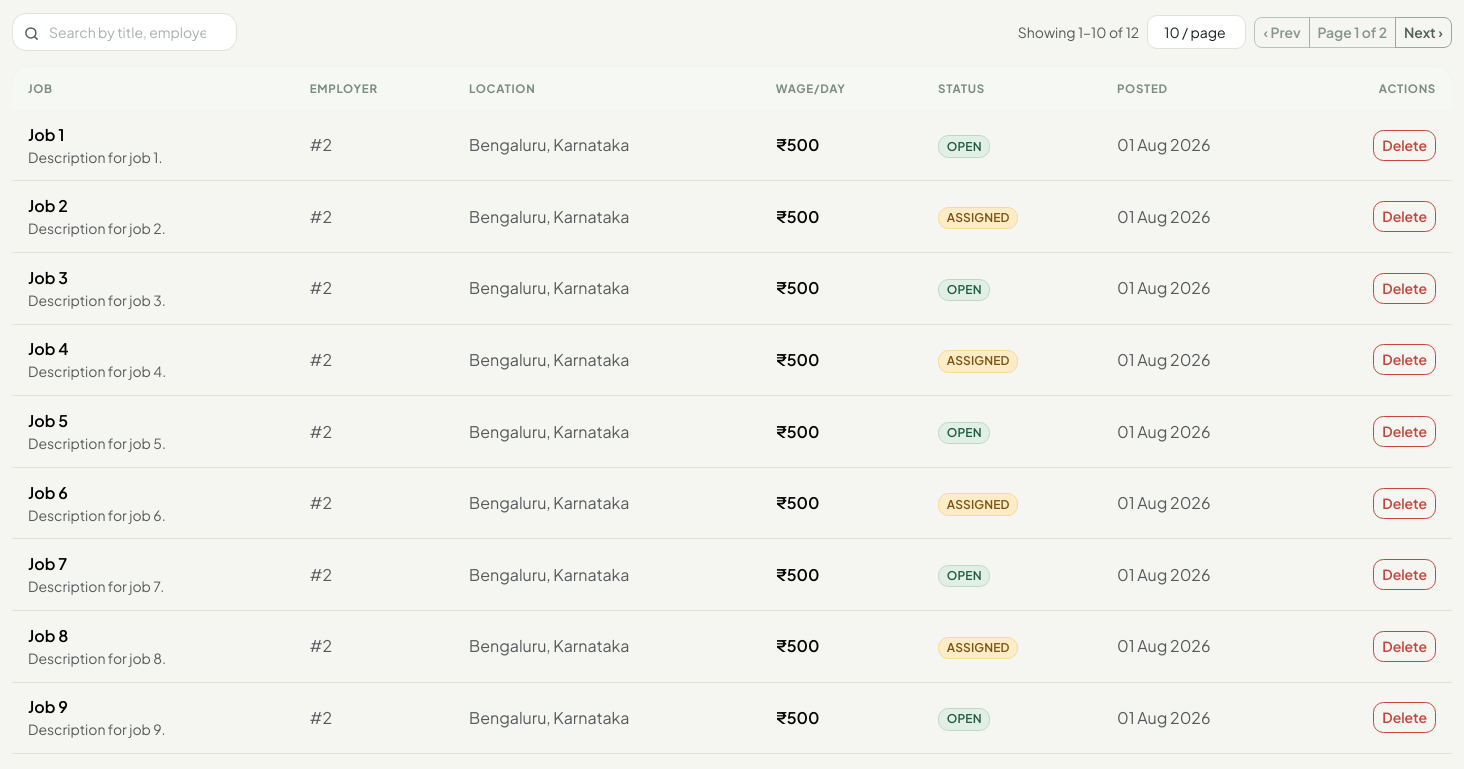
Test: JobManagement › paginates the table and lets the admin flip pages
This screenshot has width=1464, height=769.
Expected: the text "Showing 1–10 of 12" is shown, [1018,22,1139,42]
Expected: the text "Job 11" is not shown
Click the button with aria-label "next page": point(1424, 32) [1395,16,1452,48]
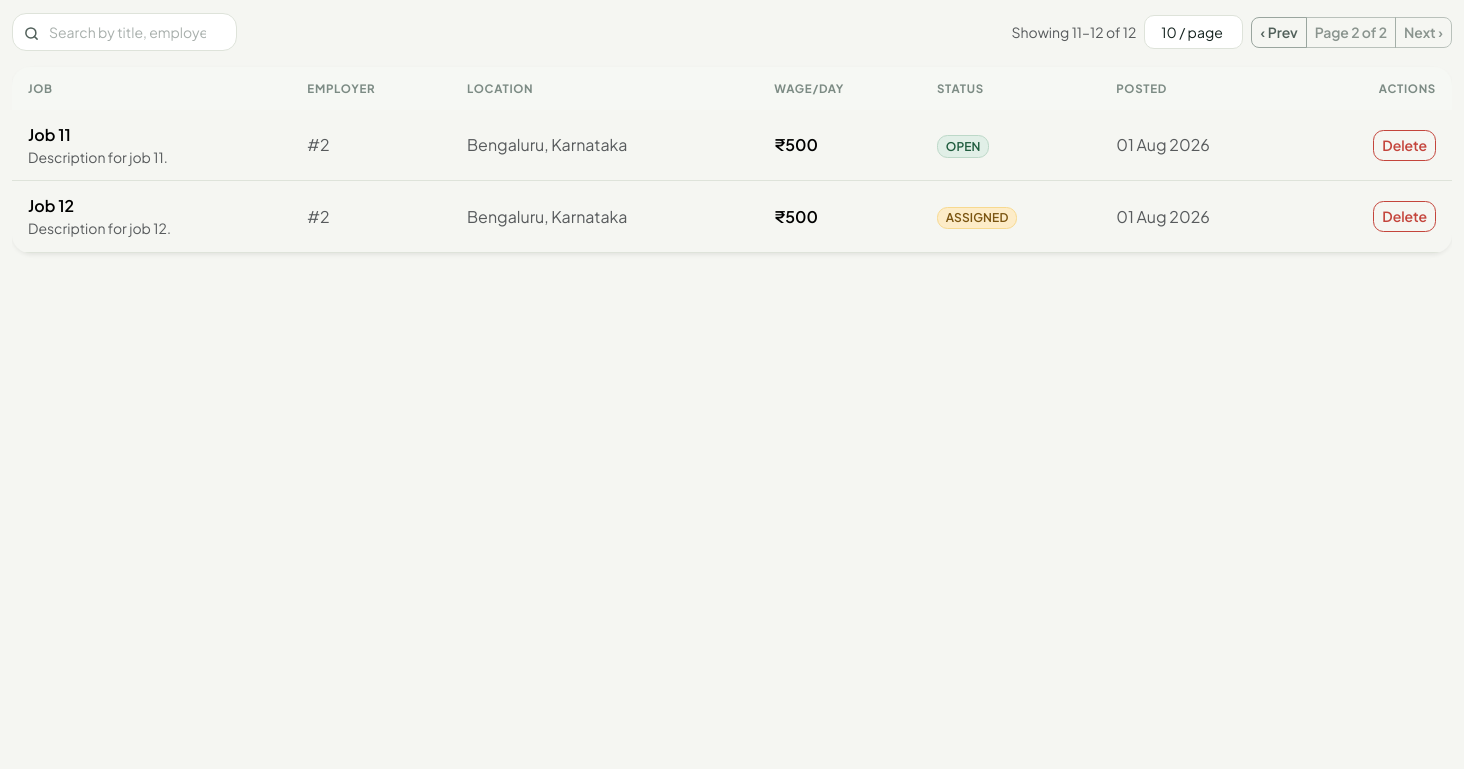
Expected: the text "Job 11" is shown, [28,124,71,145]
Expected: the text "Job 12" is shown, [28,195,74,216]
Expected: the text "Showing 11–12 of 12" is shown, [1012,22,1136,42]
Click the button with aria-label "previous page": point(1279, 32) [1251,16,1307,48]
(page scrolled)
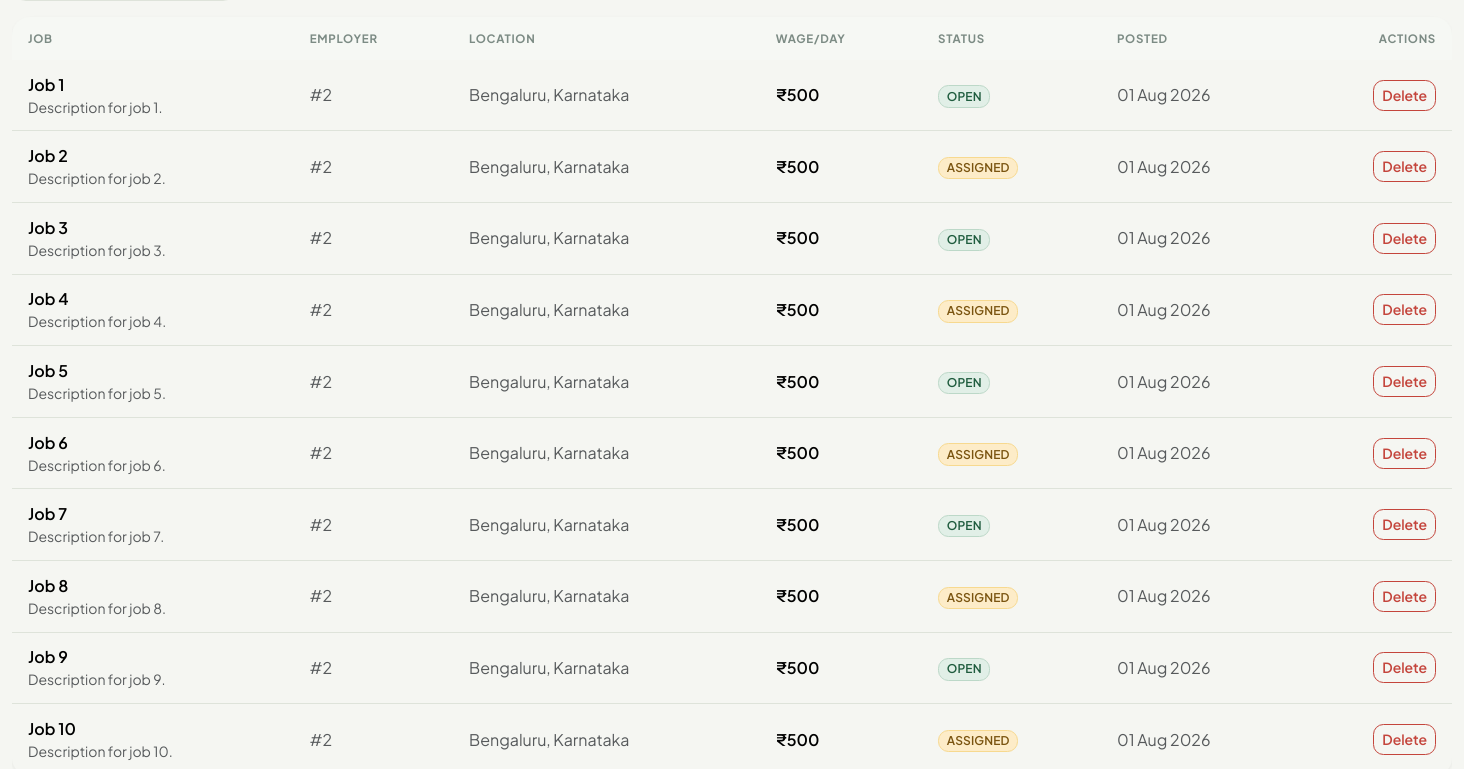
Expected: the text "Job 10" is shown, [28,718,76,739]
Expected: the text "Job 11" is gone
